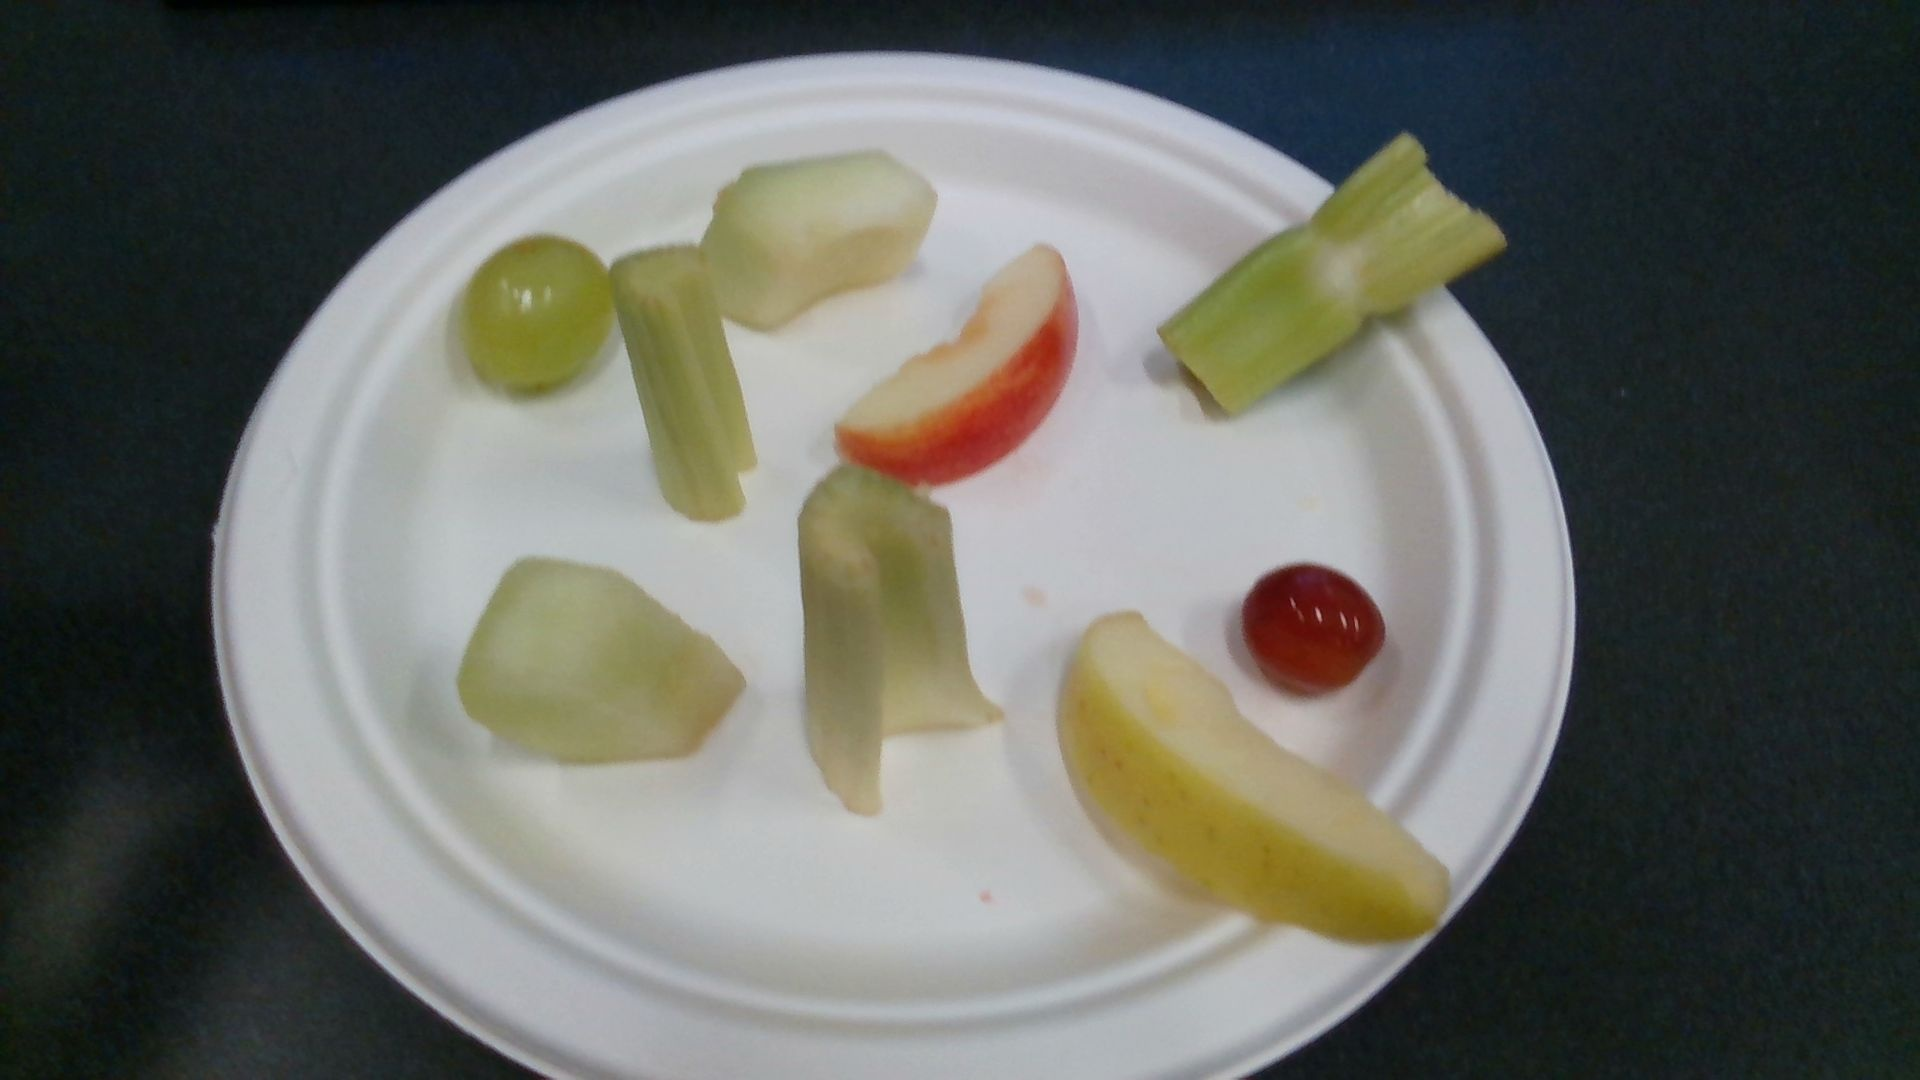apple: (1059, 613, 1449, 940), (837, 248, 1080, 485)
cantalope: (459, 563, 745, 764), (700, 152, 930, 324)
celery: (1159, 131, 1505, 415), (796, 462, 997, 816), (611, 245, 760, 521)
grape_green: (469, 237, 615, 388)
grape_purple: (1245, 566, 1385, 691)
